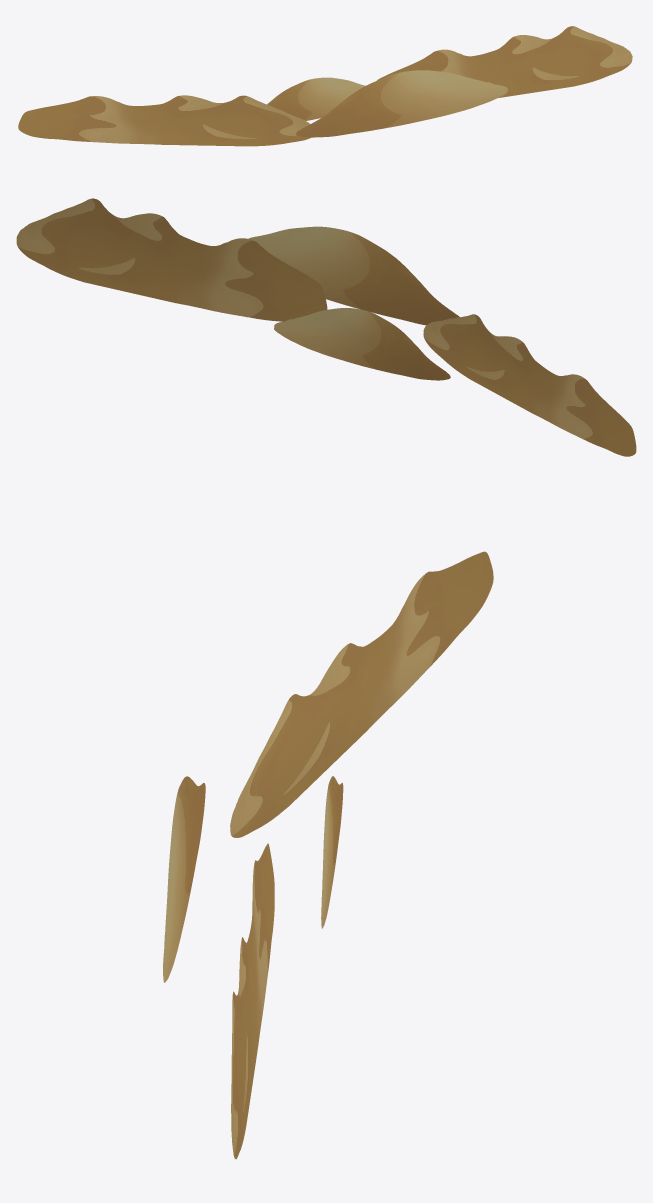
The model's file is Area_13_1.fbx.
3 renders of one model, top to bottom at view 1: azimuth 30°, elevation 25°; view 2: azimuth 150°, elevation 25°; view 3: azimuth 270°, elevation 25°, orthographic. The views are drawn at different scales.
Visible parts, largest first — view 1: Area_13_1; view 2: Area_13_1; view 3: Area_13_1.
Part boxes in pixels (<box>): Area_13_1: <box>18,26,632,146</box>; Area_13_1: <box>16,198,636,456</box>; Area_13_1: <box>163,551,493,1159</box>.
Bounding box in the file's own units: 28809 × 4067 × 7718.
1 material, 1 textured.
